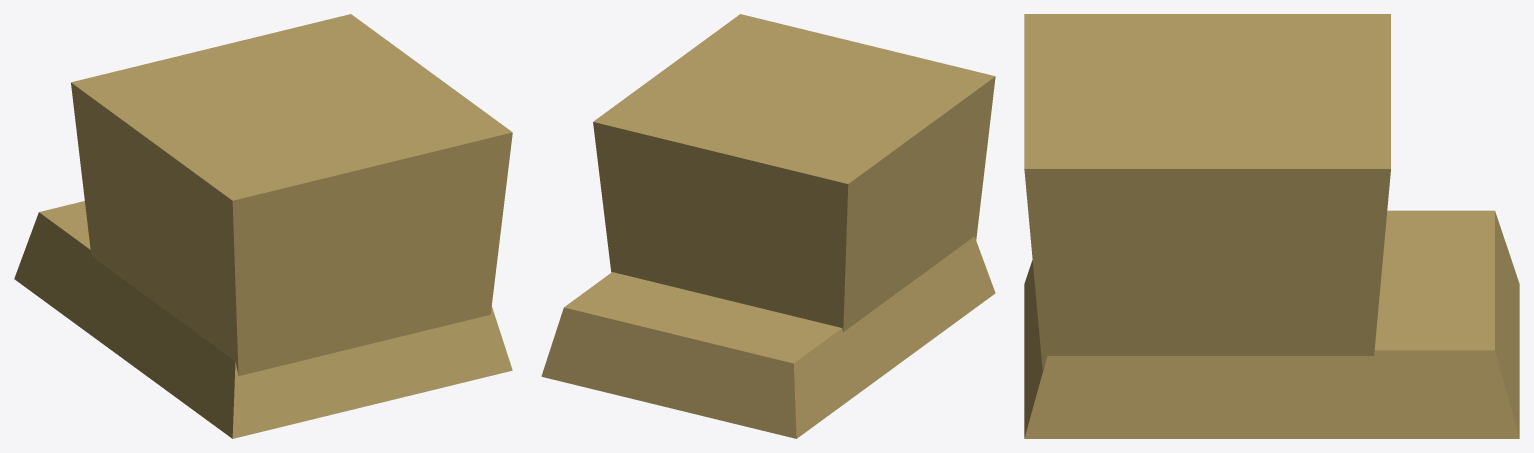
Rendered from animal_dryad_gaumaker_leg.obj.
3 renders of one model, left to right at view 1: azimuth 30°, elevation 25°; view 2: azimuth 150°, elevation 25°; view 3: azimuth 270°, elevation 25°, orthographic. The views are drawn at different scales.
Parts seen in each view (by area): view 1: animal_dryad_gaumaker_leg; view 2: animal_dryad_gaumaker_leg; view 3: animal_dryad_gaumaker_leg.
Boxes of the visible parts, box(x1,y1,x2,y2) form: animal_dryad_gaumaker_leg: box(14, 14, 512, 438); animal_dryad_gaumaker_leg: box(541, 14, 995, 438); animal_dryad_gaumaker_leg: box(1024, 14, 1519, 438).
Size of the model in its own units: 0.121 by 0.0983 by 0.1634.
